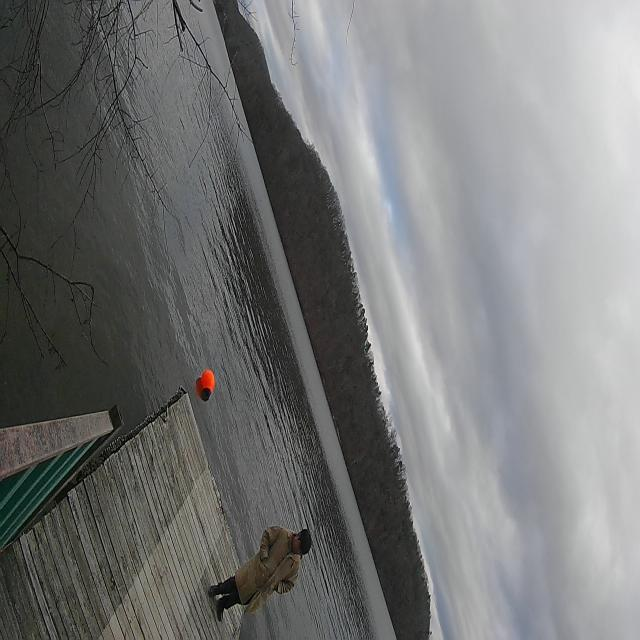Buoy: (199, 364, 217, 404)
